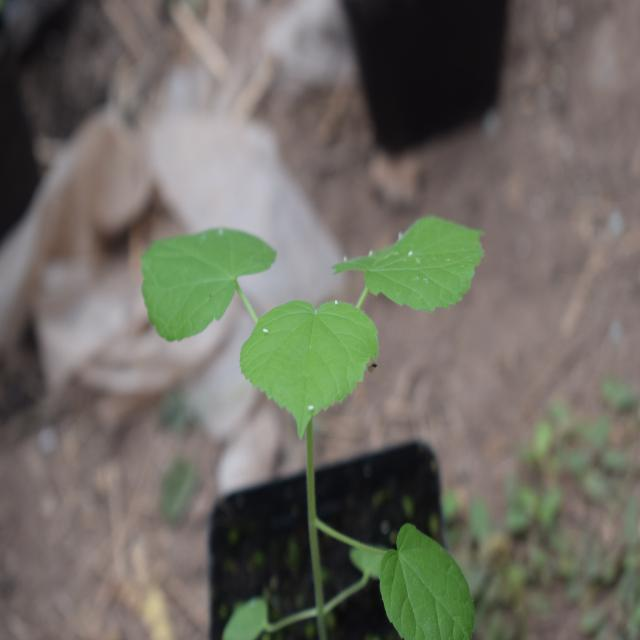abutilon theophrasti: (154, 186, 472, 512)
